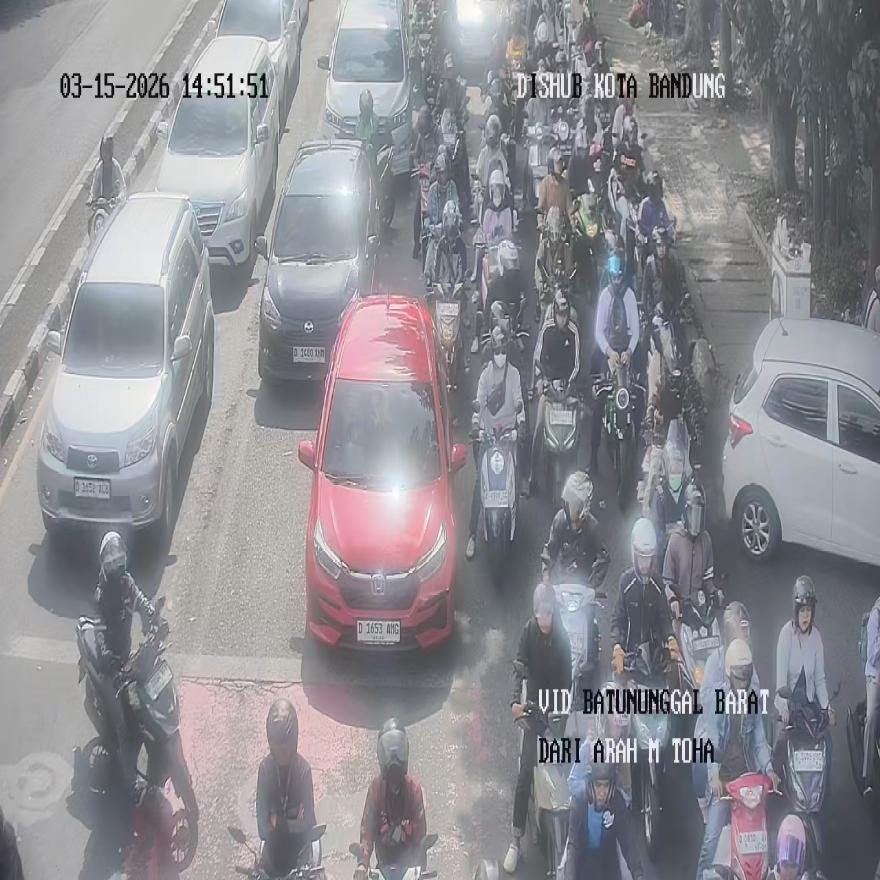Mobil: (36, 192, 214, 546), (298, 295, 466, 650), (721, 318, 880, 567), (254, 137, 380, 385), (155, 34, 276, 270), (317, 0, 418, 178)
Motor: (76, 612, 198, 847), (610, 640, 676, 854), (770, 684, 837, 880), (361, 718, 426, 878), (515, 702, 572, 878), (547, 562, 606, 730), (702, 770, 778, 879), (471, 413, 520, 573), (846, 601, 880, 808), (536, 378, 582, 506), (228, 821, 326, 880), (476, 236, 525, 352), (677, 592, 721, 708), (603, 352, 636, 505), (646, 306, 681, 438), (606, 130, 646, 243), (85, 134, 126, 244), (428, 282, 468, 391), (350, 832, 439, 880), (437, 109, 469, 220), (569, 188, 599, 306), (523, 122, 551, 226), (412, 160, 438, 265), (613, 188, 639, 292), (85, 189, 124, 247)
